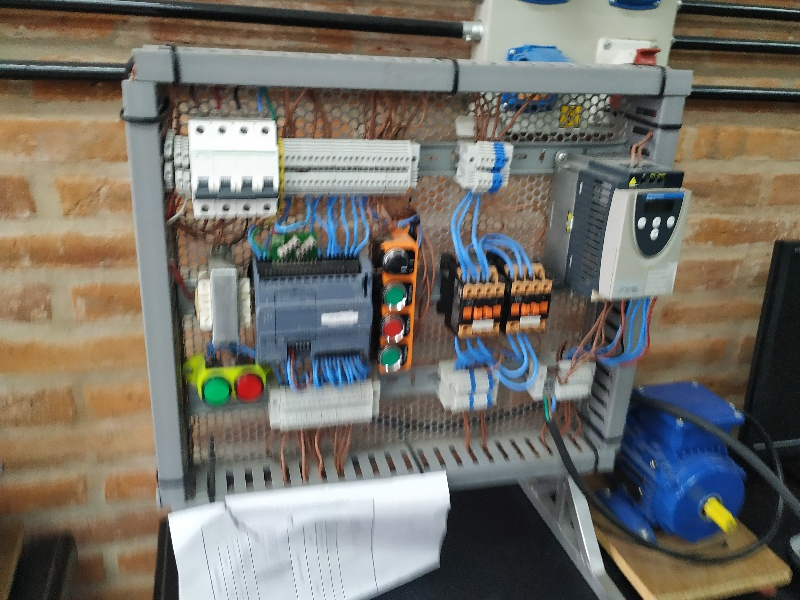Tablero 4: (147, 65, 690, 472)
